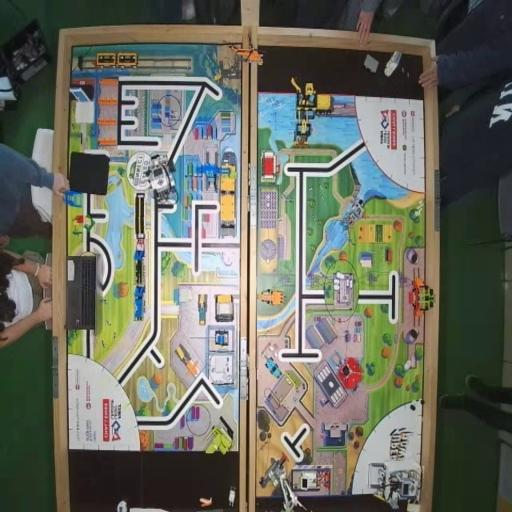lego_robot: (126, 151, 179, 206), (368, 461, 422, 512)
